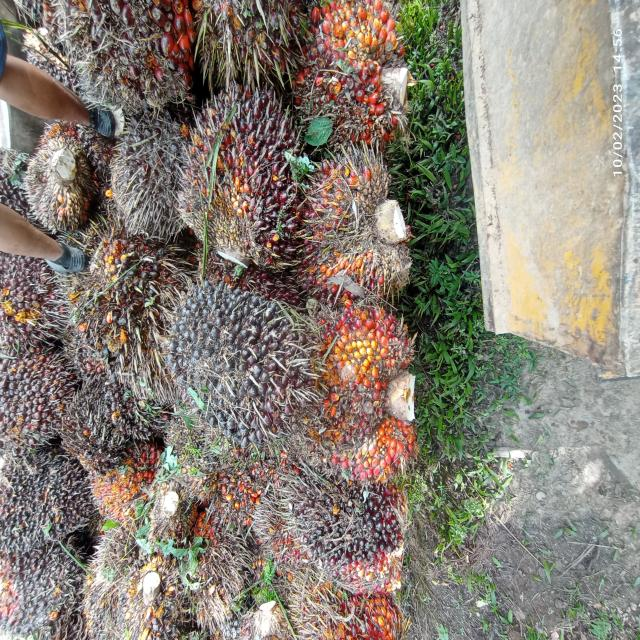fraksi 00: (148, 260, 315, 452), (274, 444, 431, 600), (64, 243, 182, 373), (98, 110, 197, 251), (65, 355, 152, 475), (0, 532, 88, 640), (0, 448, 95, 547), (0, 353, 85, 455)
fraksi 1: (148, 80, 316, 284)
fraksi 3: (285, 294, 430, 479), (280, 0, 428, 155)
